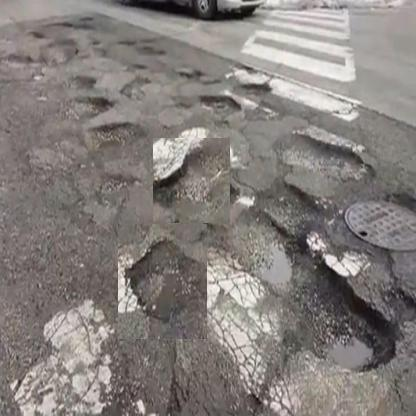damage: (51, 83, 115, 143)
pothole: (292, 275, 392, 381), (116, 224, 206, 340), (268, 124, 373, 188), (152, 138, 230, 224)
